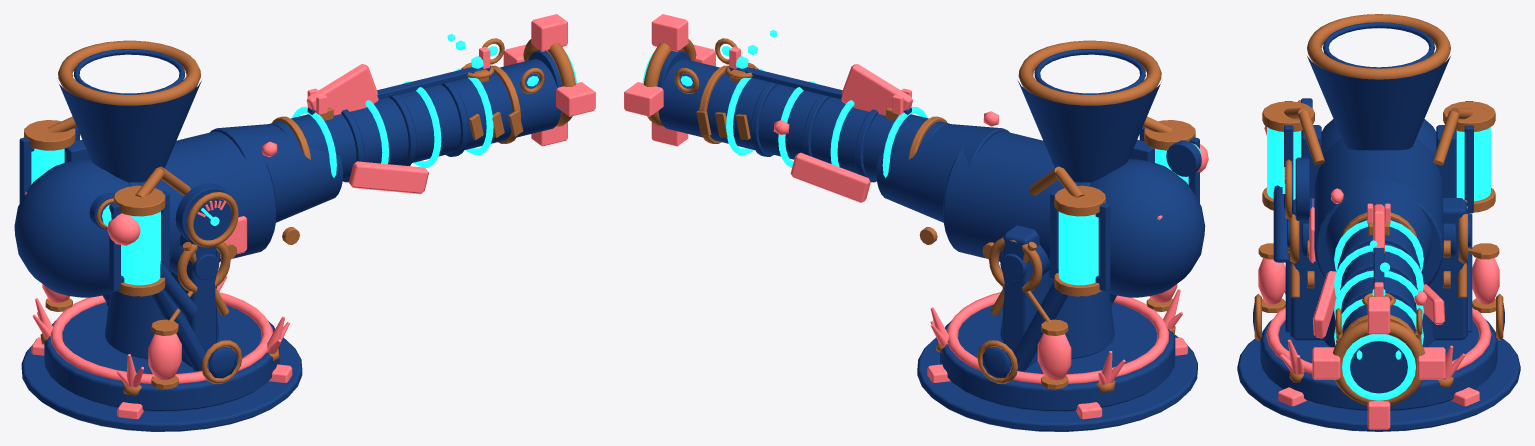
The model's file is slop-cannon-abyssal-whale.glb.
The picture shows the model from 3 angles, left to right: view 1: azimuth 30°, elevation 25°; view 2: azimuth 150°, elevation 25°; view 3: azimuth 270°, elevation 25°; orthographic projection.
Visible parts, largest first — view 1: CannonRecoilRender, CannonRootRender, CannonYawRender, CANNON_V3_AmmoGlowMesh, CANNON_V3_ChargeGlowMesh; view 2: CannonRecoilRender, CannonRootRender, CannonYawRender, CANNON_V3_AmmoGlowMesh, CANNON_V3_ChargeGlowMesh; view 3: CannonRecoilRender, CannonRootRender, CannonYawRender, CANNON_V3_ChargeGlowMesh, CANNON_V3_AmmoGlowMesh, CANNON_V3_MuzzleGlowMesh.
Boxes of the visible parts, bbox=[...] form: CannonRecoilRender: bbox=[14, 14, 595, 317]; CannonRootRender: bbox=[21, 271, 302, 431]; CannonYawRender: bbox=[42, 235, 230, 389]; CANNON_V3_AmmoGlowMesh: bbox=[31, 148, 160, 285]; CANNON_V3_ChargeGlowMesh: bbox=[292, 34, 538, 177]; CannonRecoilRender: bbox=[624, 14, 1208, 297]; CannonRootRender: bbox=[917, 271, 1197, 431]; CannonYawRender: bbox=[989, 225, 1177, 389]; CANNON_V3_AmmoGlowMesh: bbox=[1058, 148, 1188, 285]; CANNON_V3_ChargeGlowMesh: bbox=[680, 30, 927, 177]; CannonRecoilRender: bbox=[1262, 14, 1495, 429]; CannonRootRender: bbox=[1237, 289, 1520, 431]; CannonYawRender: bbox=[1258, 198, 1499, 341]; CANNON_V3_ChargeGlowMesh: bbox=[1334, 220, 1423, 345]; CANNON_V3_AmmoGlowMesh: bbox=[1267, 127, 1490, 201]; CANNON_V3_MuzzleGlowMesh: bbox=[1342, 334, 1415, 400].
Bounding box in the file's own units: 4.66 × 2.59 × 2.1.
